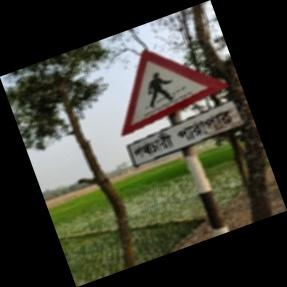Pedestrian-crossing: (120, 47, 244, 167)
